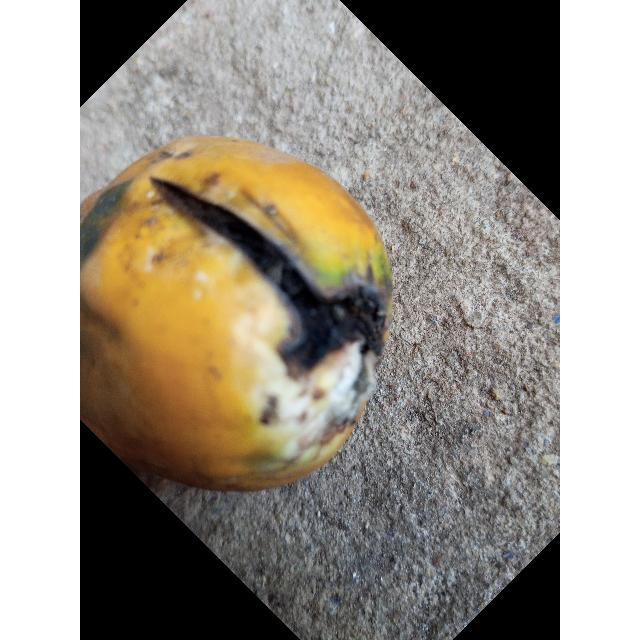damaged: (80, 136, 393, 491)
